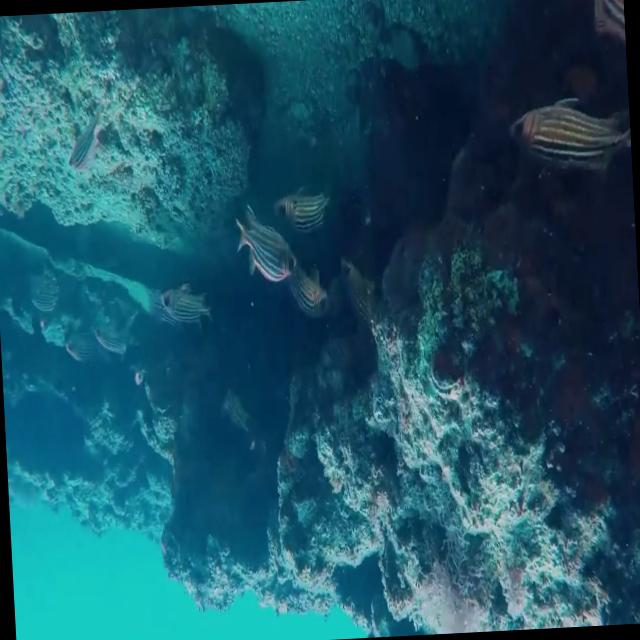Asker Baligi: (232, 198, 330, 322)
